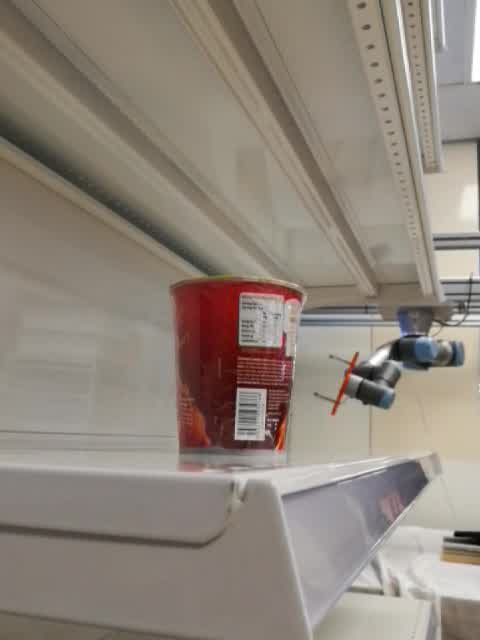maggi: (169, 274, 306, 469)
